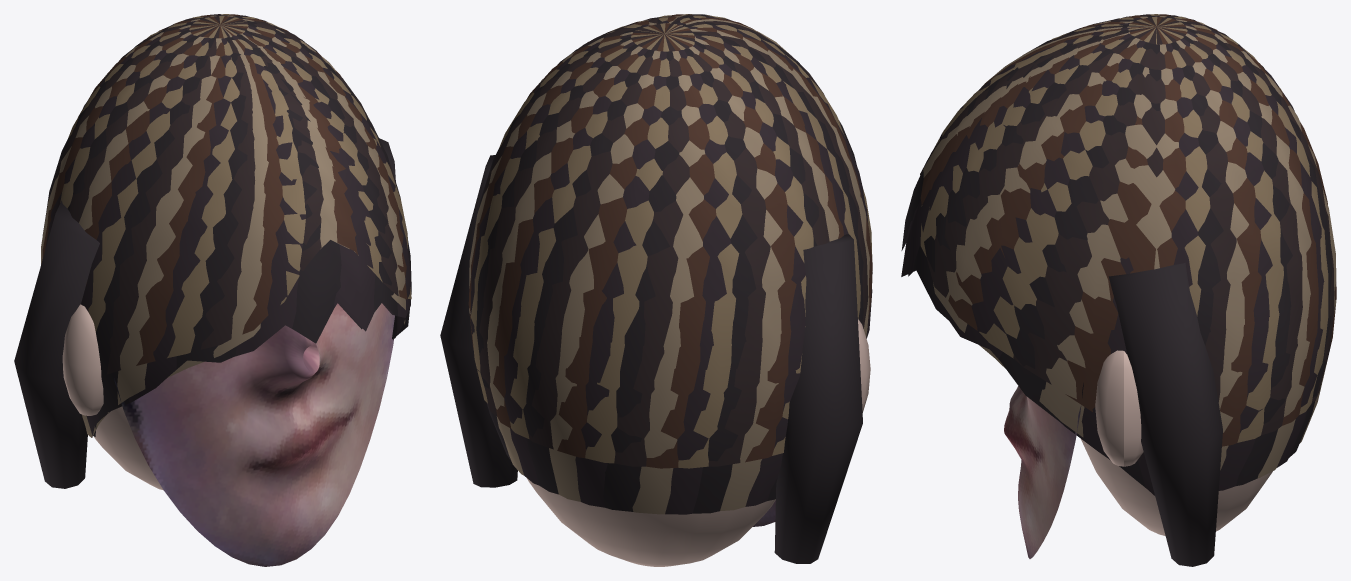
The model's file is hydra-heads.glb.
The picture shows the model from 3 angles, left to right: view 1: azimuth 30°, elevation 25°; view 2: azimuth 150°, elevation 25°; view 3: azimuth 270°, elevation 25°; orthographic projection. The views are drawn at different scales.
Visible parts, largest first — view 1: head_mesh_01, head_mesh_02, head_mesh_04, head_mesh_06, head_mesh_03, head_mesh_05; view 2: head_mesh_02, head_mesh_01, head_mesh_06, head_mesh_05, head_mesh_03, head_mesh_04; view 3: head_mesh_02, head_mesh_01, head_mesh_05, head_mesh_06, head_mesh_03, head_mesh_04.
Boxes of the visible parts, box(x1,y1,x2,y2) form: head_mesh_01: box(42, 14, 400, 566); head_mesh_02: box(14, 15, 411, 488); head_mesh_04: box(45, 15, 410, 437); head_mesh_06: box(41, 15, 405, 437); head_mesh_03: box(60, 14, 411, 358); head_mesh_05: box(42, 14, 407, 365); head_mesh_02: box(440, 14, 872, 563); head_mesh_01: box(479, 14, 870, 566); head_mesh_06: box(469, 14, 869, 514); head_mesh_05: box(468, 14, 872, 468); head_mesh_03: box(470, 15, 872, 468); head_mesh_04: box(470, 15, 872, 514); head_mesh_02: box(901, 16, 1332, 566); head_mesh_01: box(920, 14, 1334, 558); head_mesh_05: box(920, 14, 1336, 446); head_mesh_06: box(923, 15, 1336, 478); head_mesh_03: box(920, 14, 1328, 442); head_mesh_04: box(901, 15, 1326, 495).
Bounding box in the file's own units: 0.3819 × 0.48 × 0.3611.
Materials: 3 (1 with a texture image).
